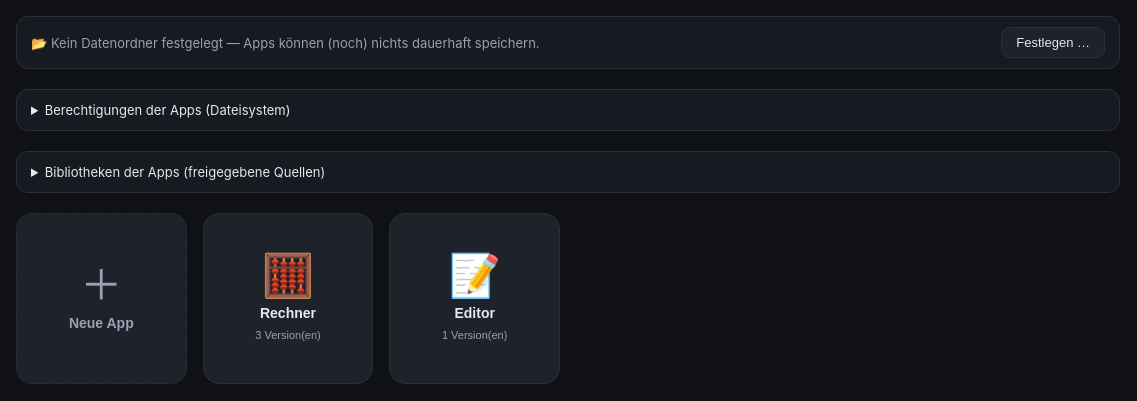
Test: DesktopView › legt den Datenordner über die Zugriffsleiste fest
The image size is (1137, 401).
Click the button with class "access-btn".
click(1053, 42)  # box [1001,27,1105,58]
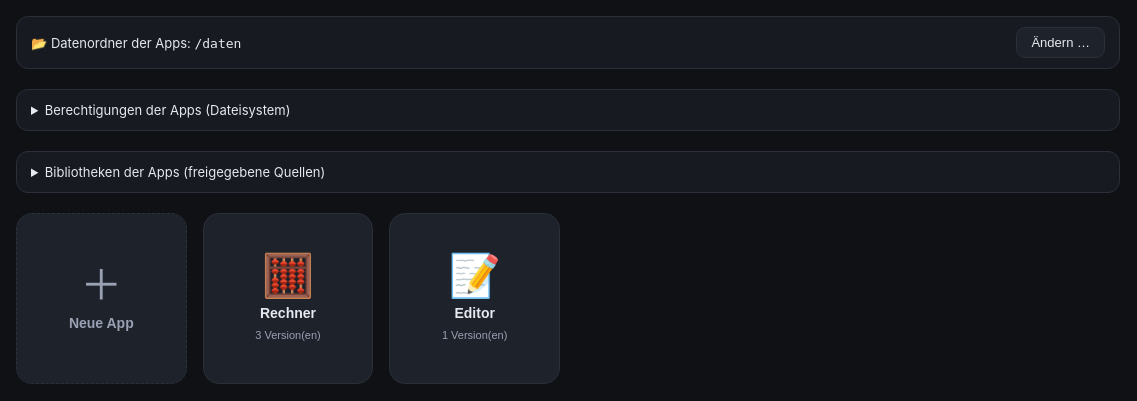
Expected: the text "/daten" is shown, [194,36,241,50]
